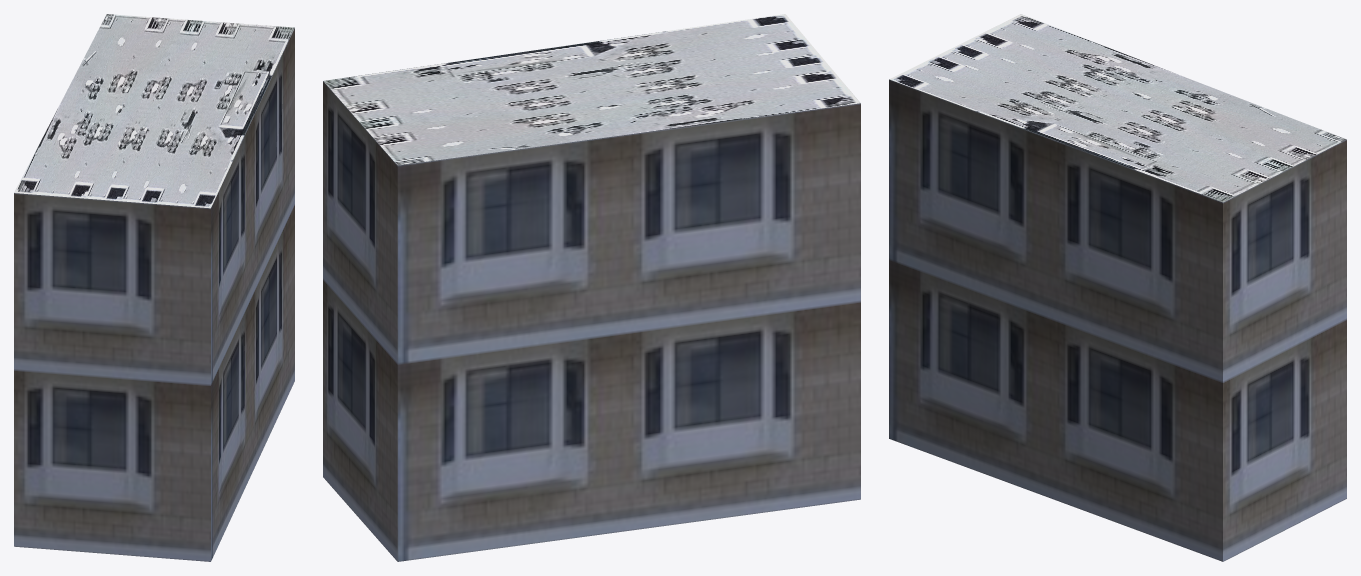
The model's file is ResTex__1064.fbx.
The picture shows the model from 3 angles, left to right: view 1: azimuth 30°, elevation 25°; view 2: azimuth 150°, elevation 25°; view 3: azimuth 270°, elevation 25°; orthographic projection. The views are drawn at different scales.
Visible parts, largest first — view 1: CityEngineMaterial_3_m, CityEngineMaterial_m; view 2: CityEngineMaterial_3_m, CityEngineMaterial_m; view 3: CityEngineMaterial_3_m, CityEngineMaterial_m.
Boxes of the visible parts, <box> form: CityEngineMaterial_3_m: <box>14,28,294,561</box>; CityEngineMaterial_m: <box>14,14,294,208</box>; CityEngineMaterial_3_m: <box>323,81,860,561</box>; CityEngineMaterial_m: <box>323,14,860,165</box>; CityEngineMaterial_3_m: <box>889,79,1346,561</box>; CityEngineMaterial_m: <box>889,14,1346,202</box>.
Bounding box in the file's own units: 6.75 × 6 × 6.93.
2 materials, 2 textured.
